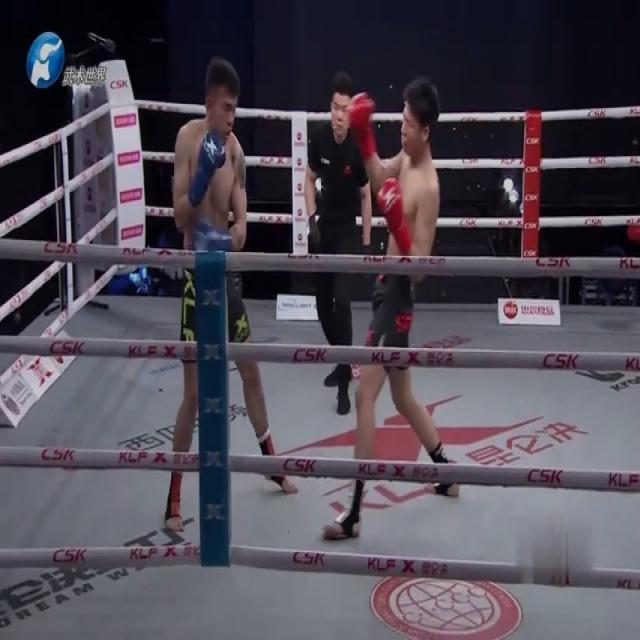fight: (162, 42, 457, 550)
non-fight: (307, 66, 375, 413)
